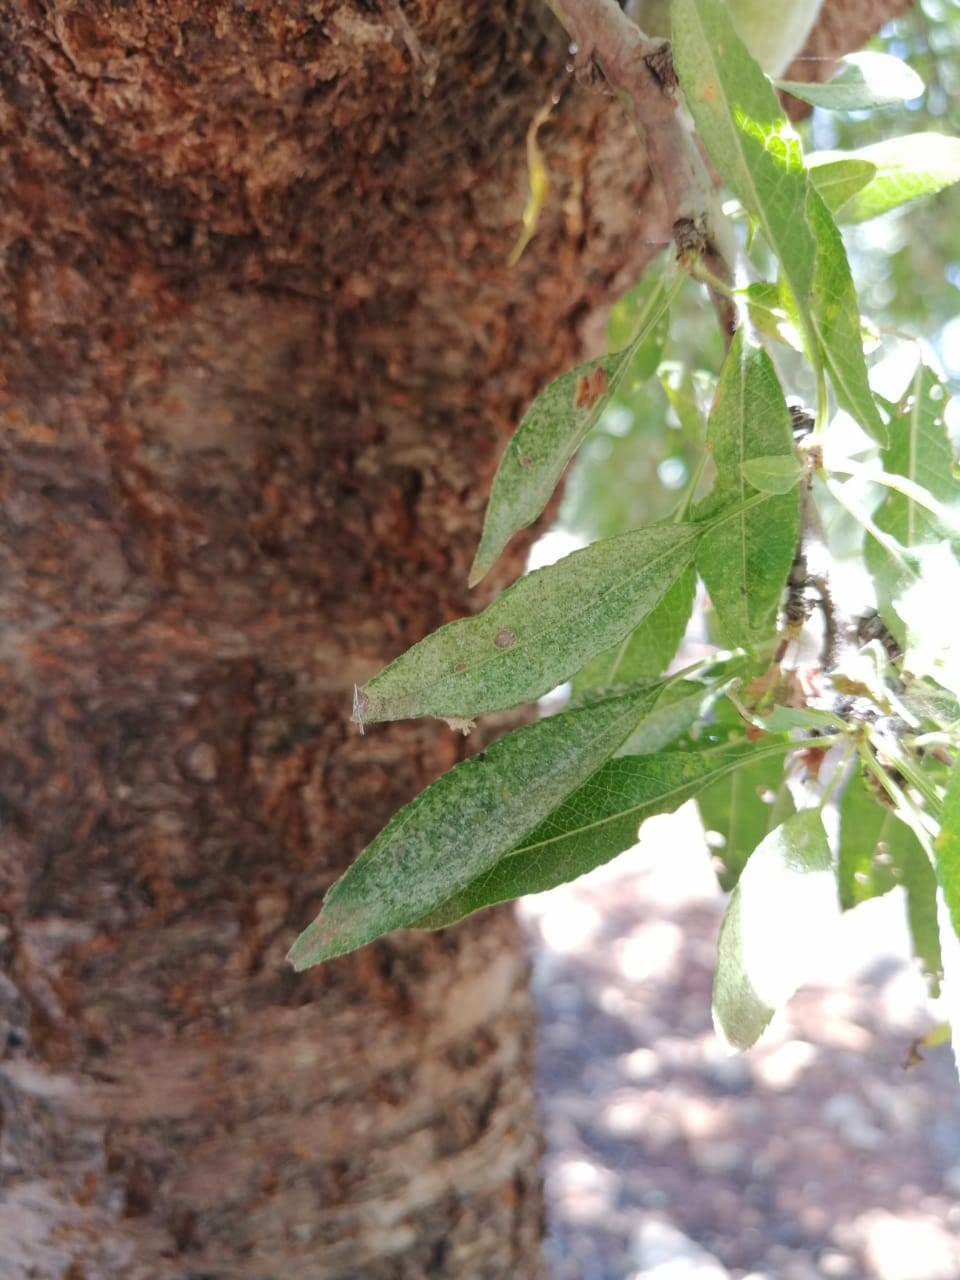acariens: (280, 679, 682, 973), (346, 521, 711, 722), (463, 341, 641, 594)
